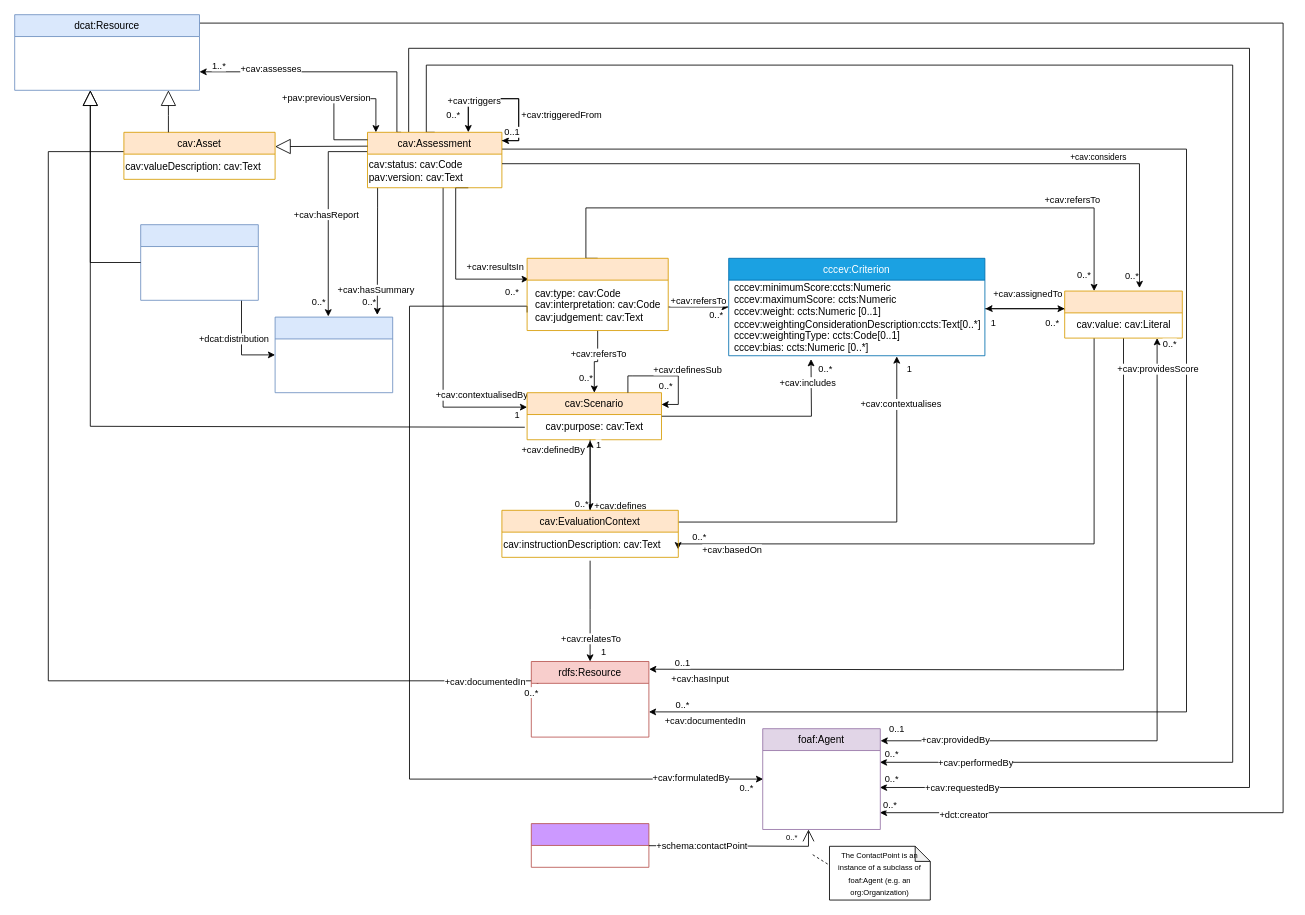
The diagram is 1305 pixels wide and 915 high, and some of its shapes have lost their labels. Each missing label, with the box of its shape:
cav:Score: (1064, 290, 1182, 338)
cav:Statement: (526, 257, 668, 331)
dcat:Dataset: (140, 224, 258, 300)
dcat:Distribution: (274, 316, 393, 393)
schema:ContactPoint: (530, 823, 649, 867)
